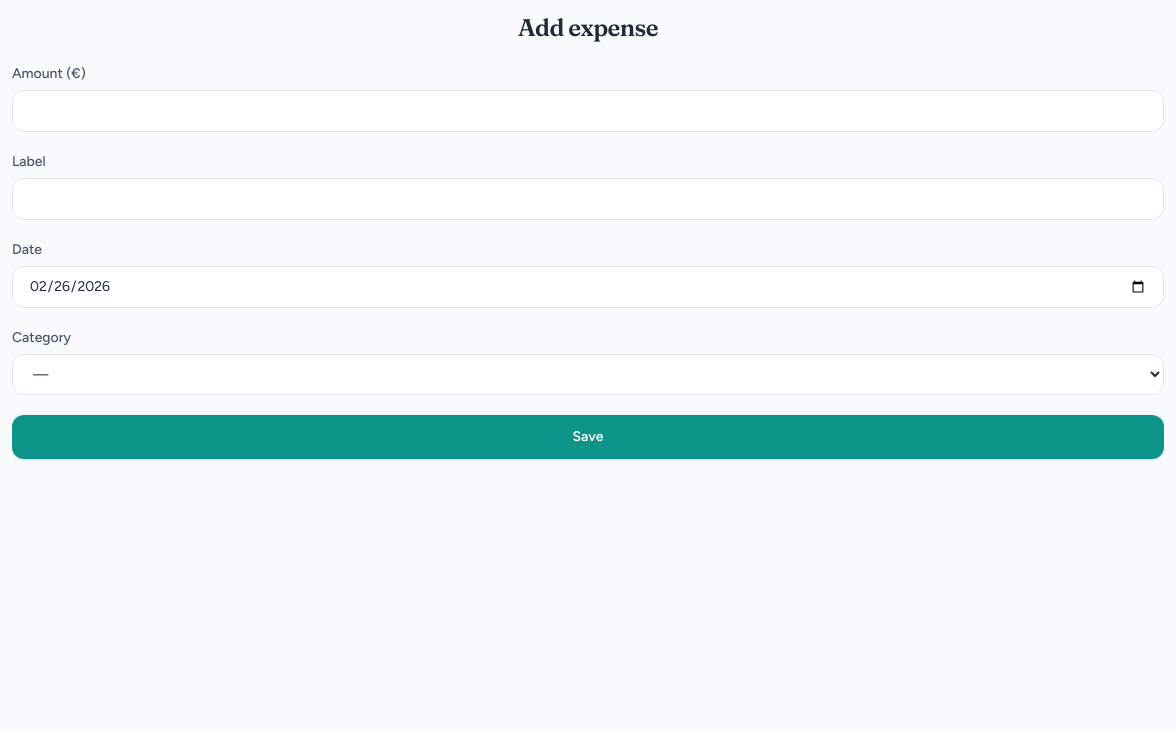
Test: ExpenseForm › shows validation error for negative amount
Type "-5" into the number field labelled "Amount (€)" at [588, 111], box x1=12 y1=90 x2=1164 y2=132
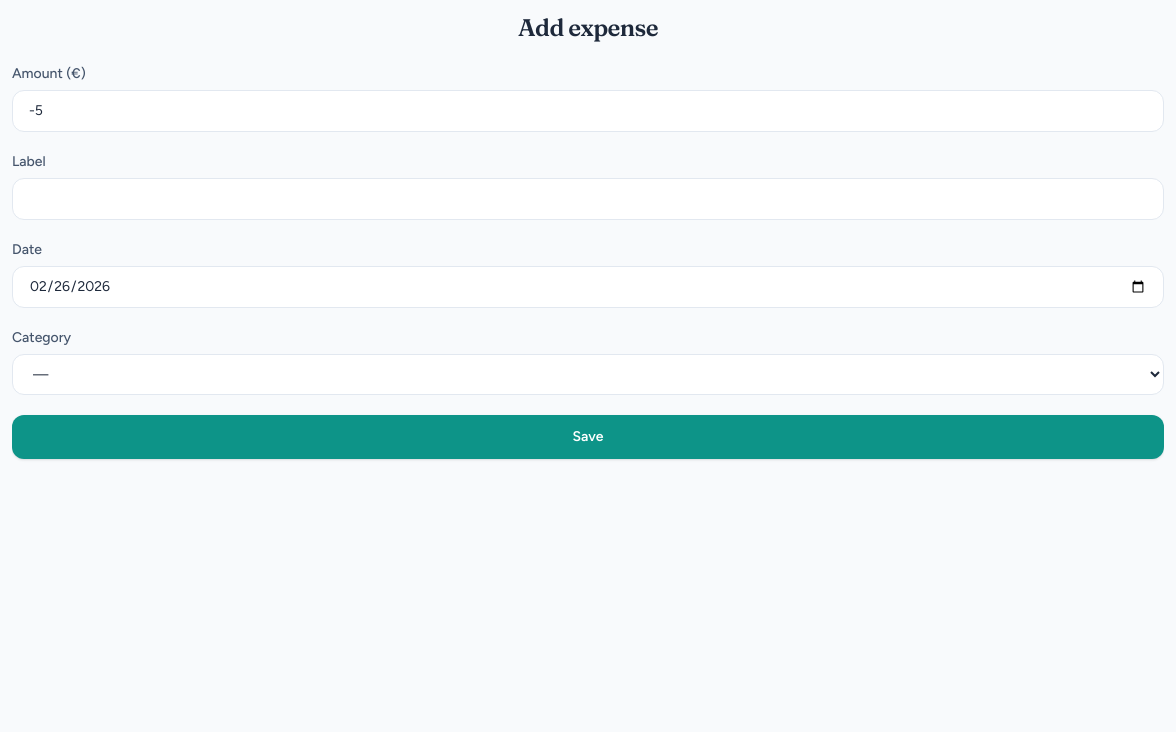
Click the button "Save" at [588, 437], box x1=12 y1=415 x2=1164 y2=459
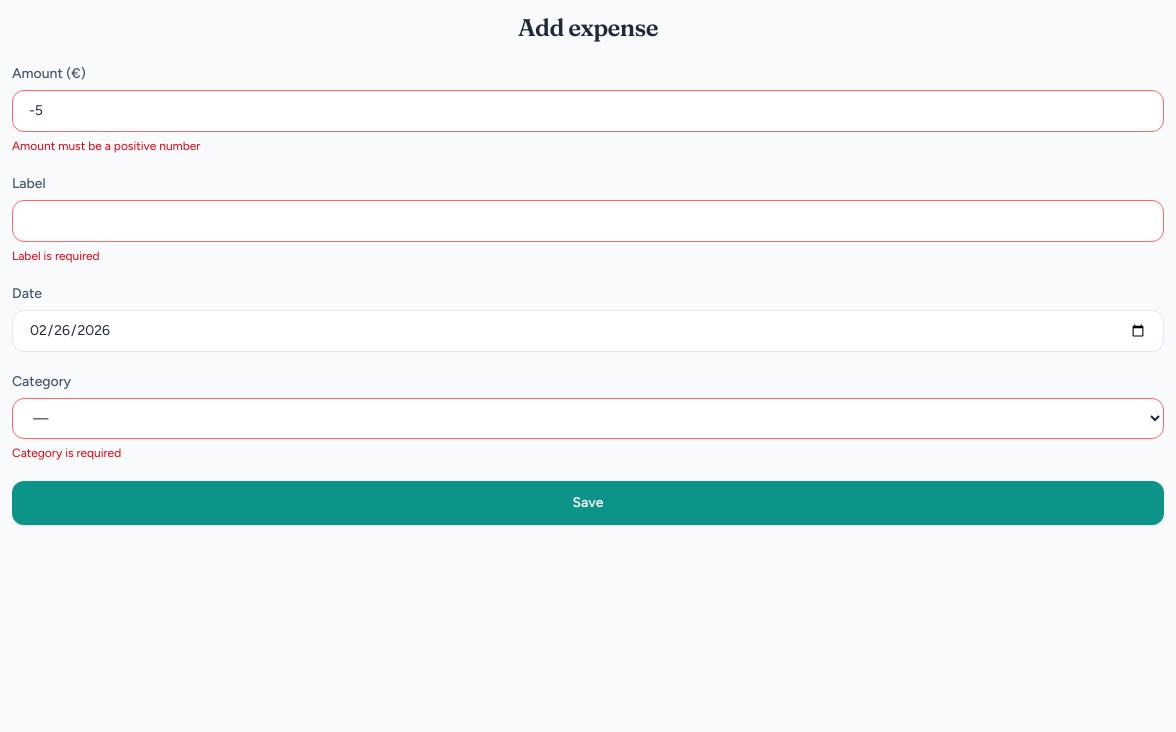
Expected: the text "Amount must be a positive number" is shown, x1=12 y1=139 x2=200 y2=153
